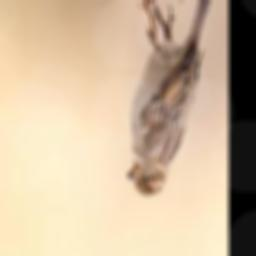Sparrow: (126, 0, 216, 195)
